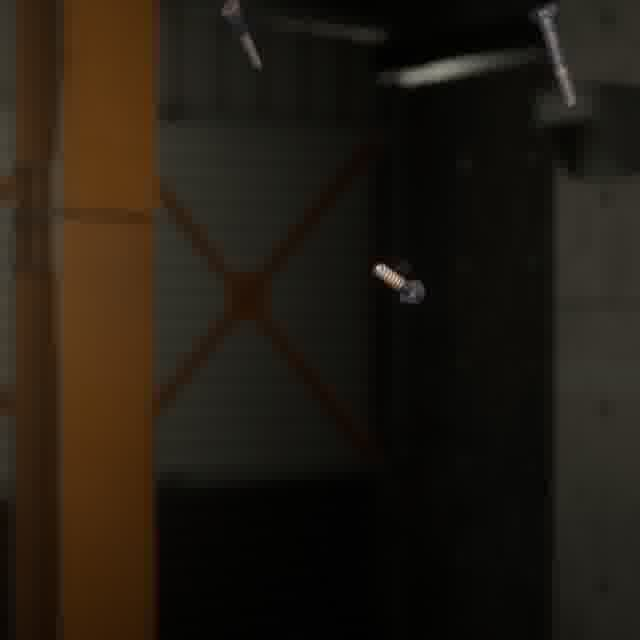bolt: (525, 0, 582, 111), (216, 0, 266, 75), (369, 258, 429, 310)
